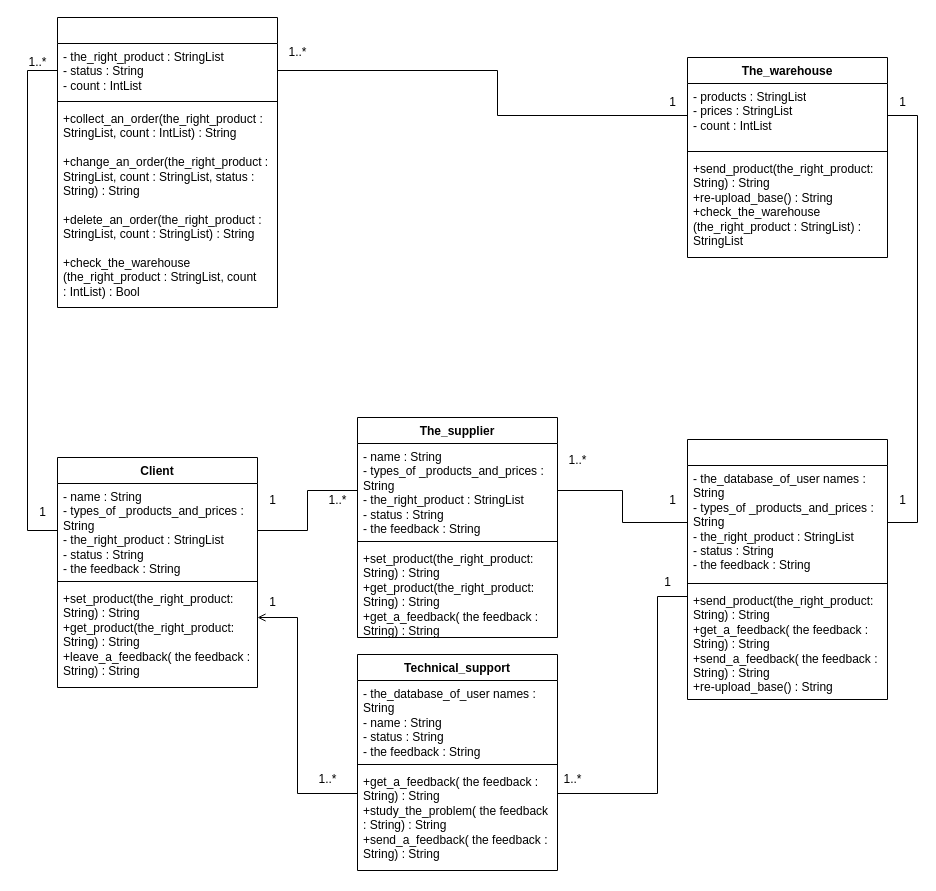
Some shapes in this 936 by 891 pixel diagram are drawn without their labels. Here are the shapes that lost their labels. From the top down, the box of each, then its label:
(56, 16, 278, 308): The_order
(686, 438, 888, 700): The_management_system
